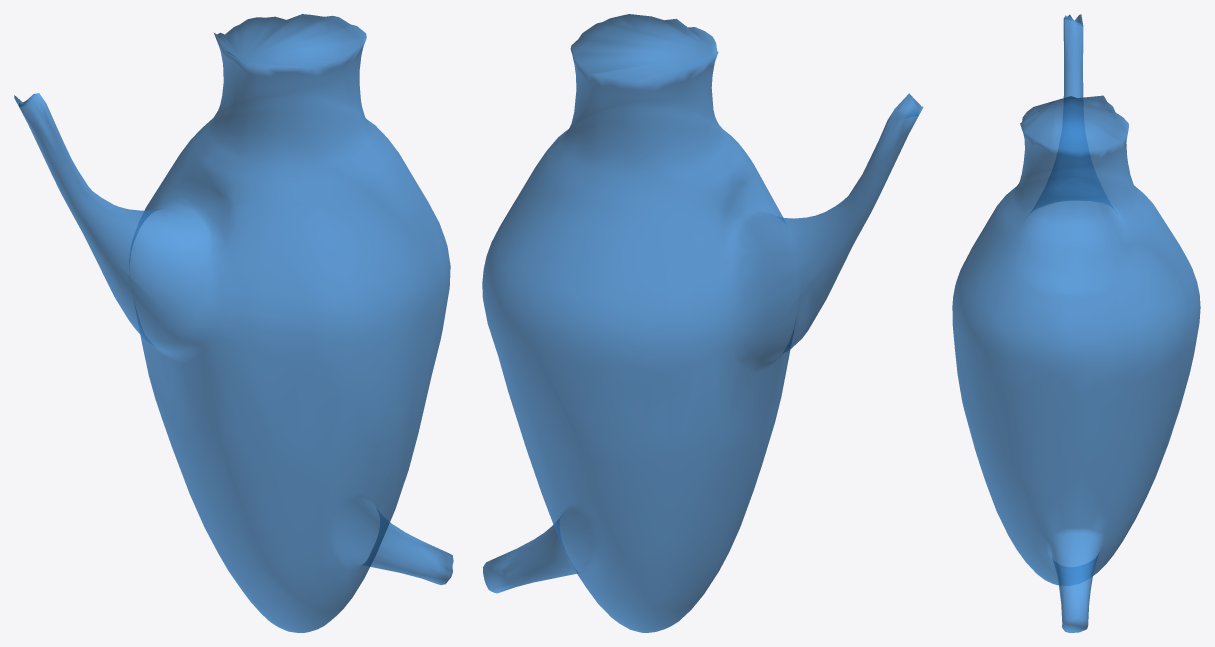
File: LiquidInsideAlchemyContainer2.fbx
3 views of the same model, side by side, from view 1: azimuth 30°, elevation 25°; view 2: azimuth 150°, elevation 25°; view 3: azimuth 270°, elevation 25° (orthographic). The views are drawn at different scales.
Visible parts, largest first — view 1: lp.001; view 2: lp.001; view 3: lp.001.
Boxes of the visible parts, <box> form: lp.001: <box>14,14,453,632</box>; lp.001: <box>482,14,923,632</box>; lp.001: <box>952,14,1200,632</box>.
Bounding box in the file's own units: 136 × 179 × 85.73.
